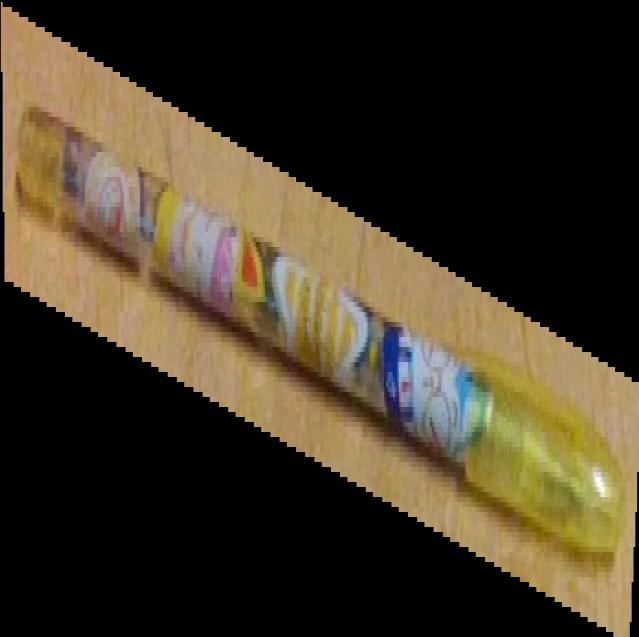yellow: (0, 1, 639, 637)
